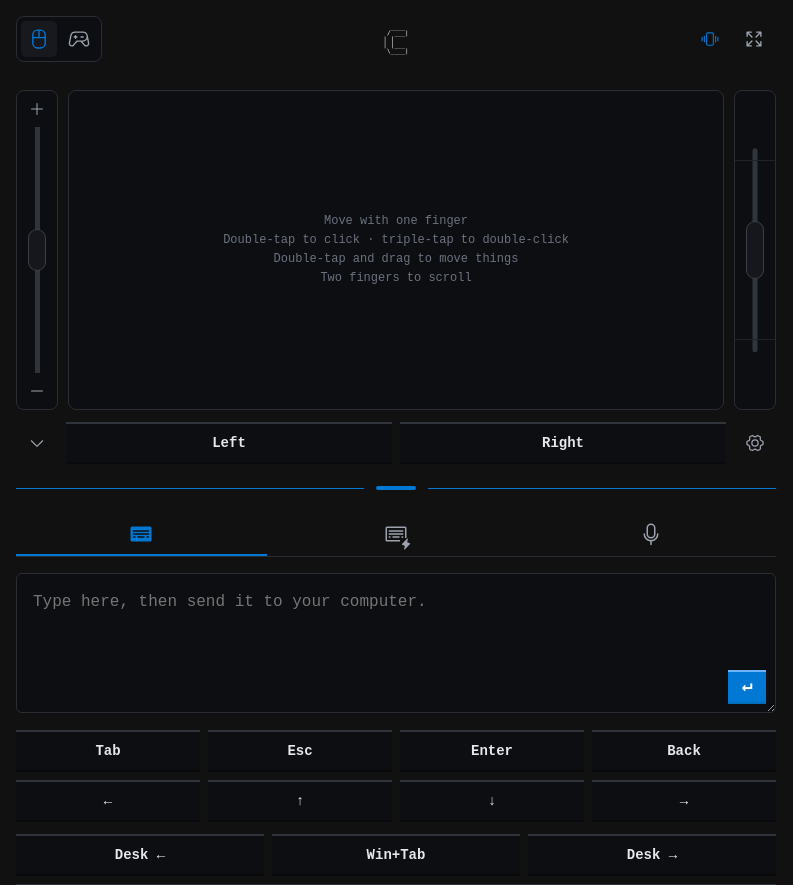
React input workspace › keeps newer edits when an earlier text submission completes
Type "first" into the text box.
click(396, 643); type("first")  # box [16, 573, 776, 713]
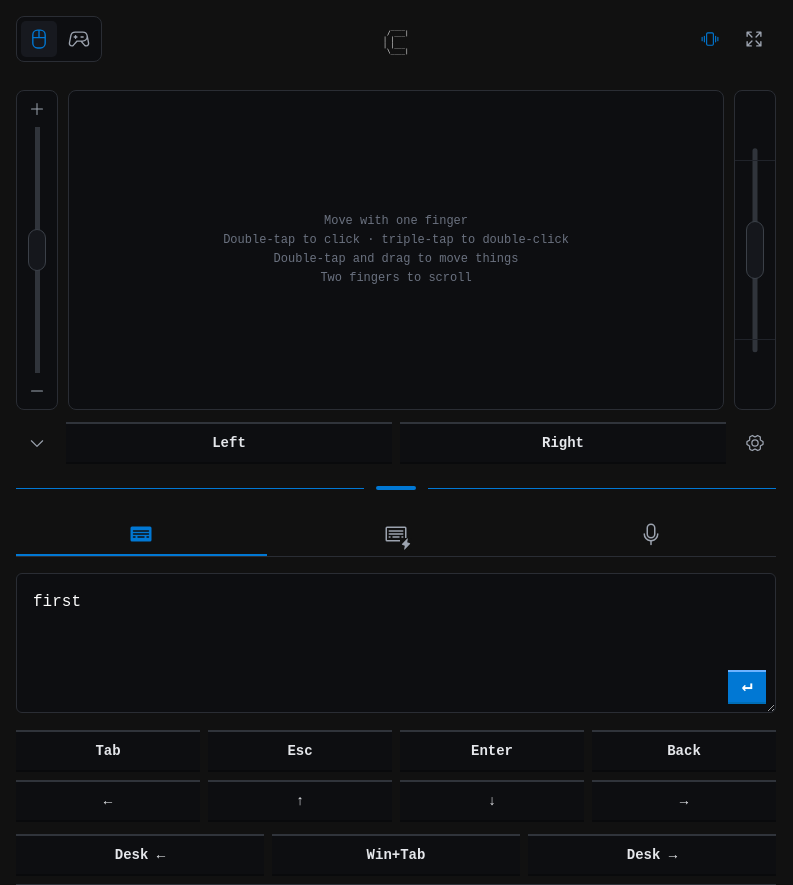
Click the button named "Send text".
click(747, 687)  # box [728, 670, 766, 704]
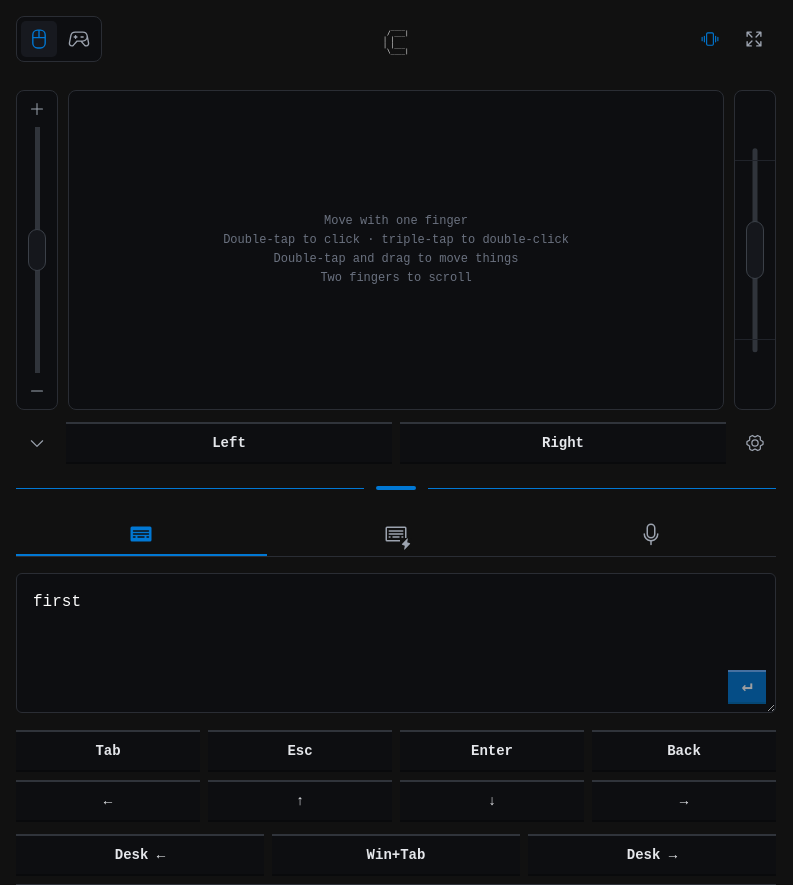
Replace the text in the text box with "next" at (396, 643), box [16, 573, 776, 713]
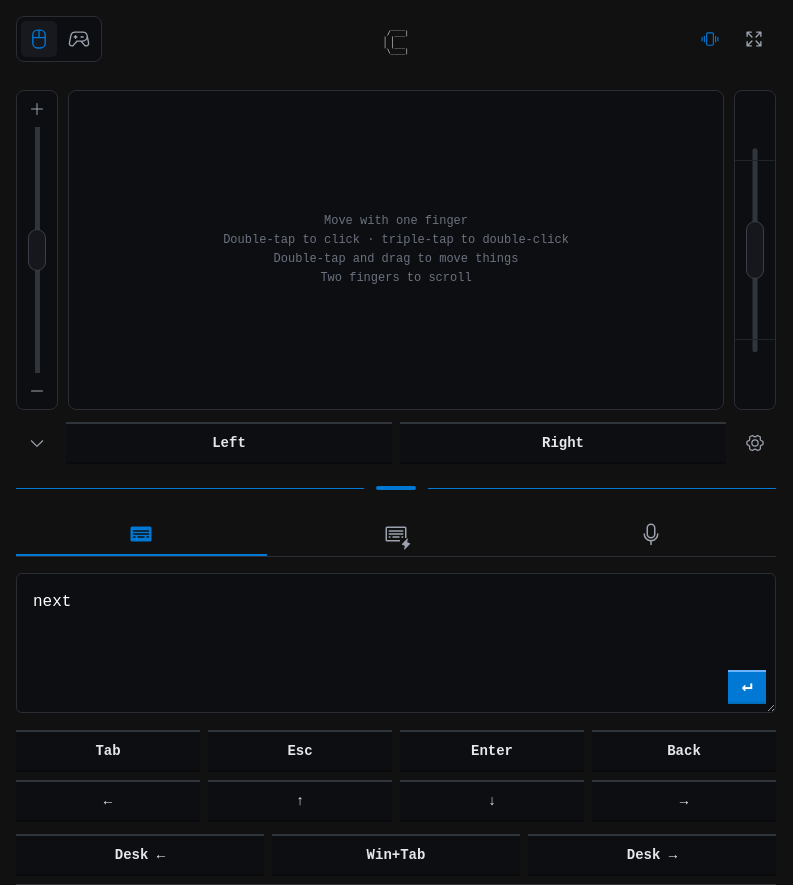
Expected: the button named "Send text" is enabled, [728, 670, 766, 704]
